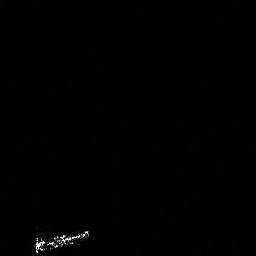ship: (29, 225, 93, 256)
